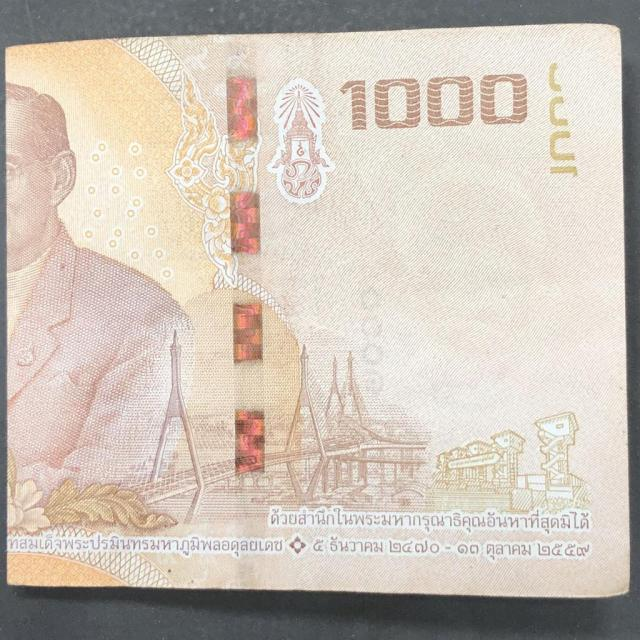THAI1000: (4, 24, 630, 601)
